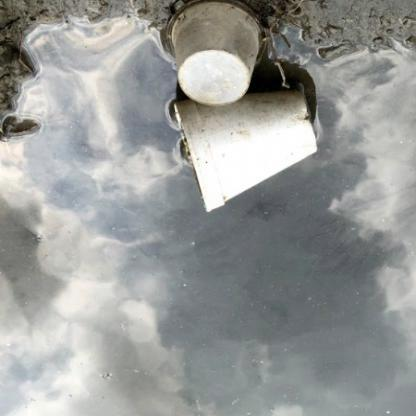Plastic: (172, 81, 322, 215), (163, 1, 270, 108)
